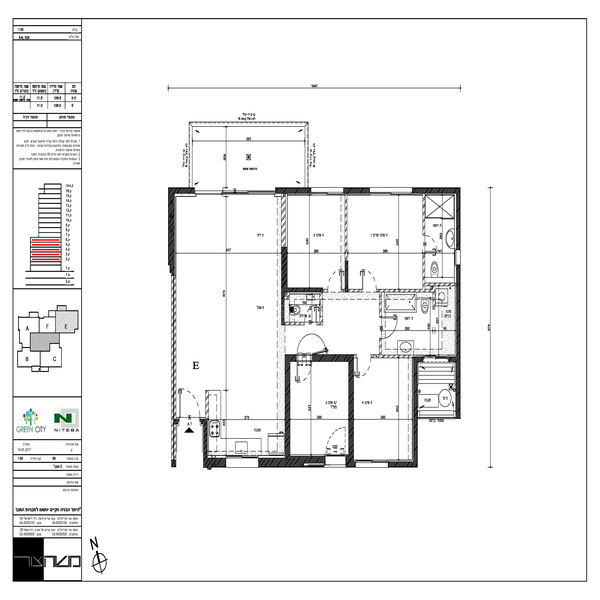door: (175, 388, 202, 416), (323, 428, 349, 455), (380, 315, 402, 344), (322, 270, 343, 298), (420, 231, 445, 254), (353, 354, 374, 380), (356, 264, 377, 290), (297, 352, 313, 384)
room: (341, 187, 461, 298), (286, 351, 354, 471), (348, 353, 418, 468), (281, 192, 350, 298)
wall: (454, 267, 462, 417), (347, 359, 355, 465), (168, 191, 177, 276), (257, 454, 323, 465), (286, 353, 293, 454), (412, 357, 418, 465), (310, 354, 353, 367), (412, 188, 458, 194), (456, 194, 461, 244), (277, 186, 307, 194)
window: (222, 455, 257, 468), (371, 189, 409, 197), (311, 186, 346, 194), (361, 461, 392, 468), (423, 356, 446, 364)
